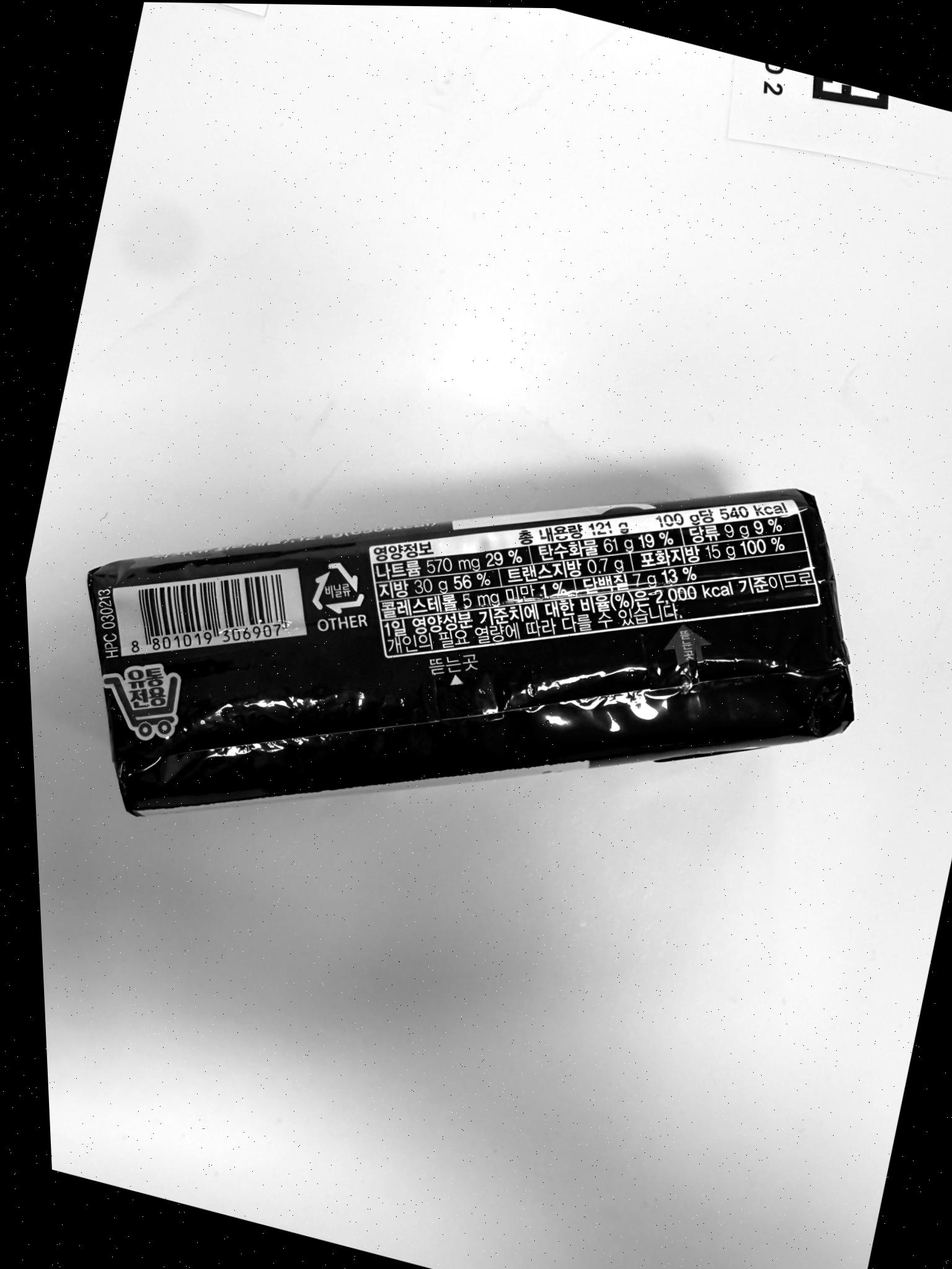cracker_ace: (87, 489, 852, 812)
